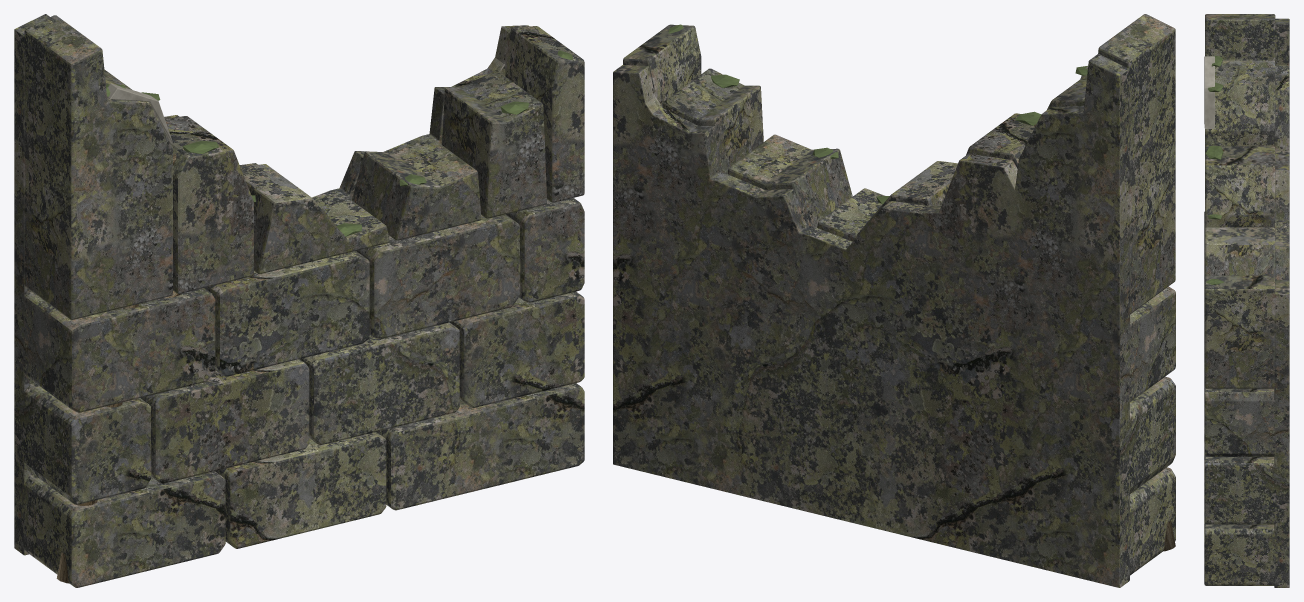
File: mod_sacred_collapsed_wall_4m.glb
The picture shows the model from 3 angles, left to right: view 1: azimuth 30°, elevation 25°; view 2: azimuth 150°, elevation 25°; view 3: azimuth 270°, elevation 25°; orthographic projection. The views are drawn at different scales.
Visible parts, largest first — view 1: sacred_weathered_stone_surface, sacred_velvet_moss_surface, sacred_fresh_fracture_surface; view 2: sacred_weathered_stone_surface, sacred_velvet_moss_surface; view 3: sacred_weathered_stone_surface, sacred_fresh_fracture_surface, sacred_velvet_moss_surface.
Part boxes in pixels (x1,y1,x2,y2): sacred_weathered_stone_surface: (14,14,584,587); sacred_velvet_moss_surface: (106,50,572,236); sacred_fresh_fracture_surface: (107,83,173,144); sacred_weathered_stone_surface: (613,14,1175,587); sacred_velvet_moss_surface: (668,24,1087,204); sacred_weathered_stone_surface: (1204,14,1289,587); sacred_fresh_fracture_surface: (1204,56,1214,128); sacred_velvet_moss_surface: (1205,56,1223,284).
Bounding box in the file's own units: 4.04 × 3.97 × 0.778.
Materials: 4 (4 with a texture image).
